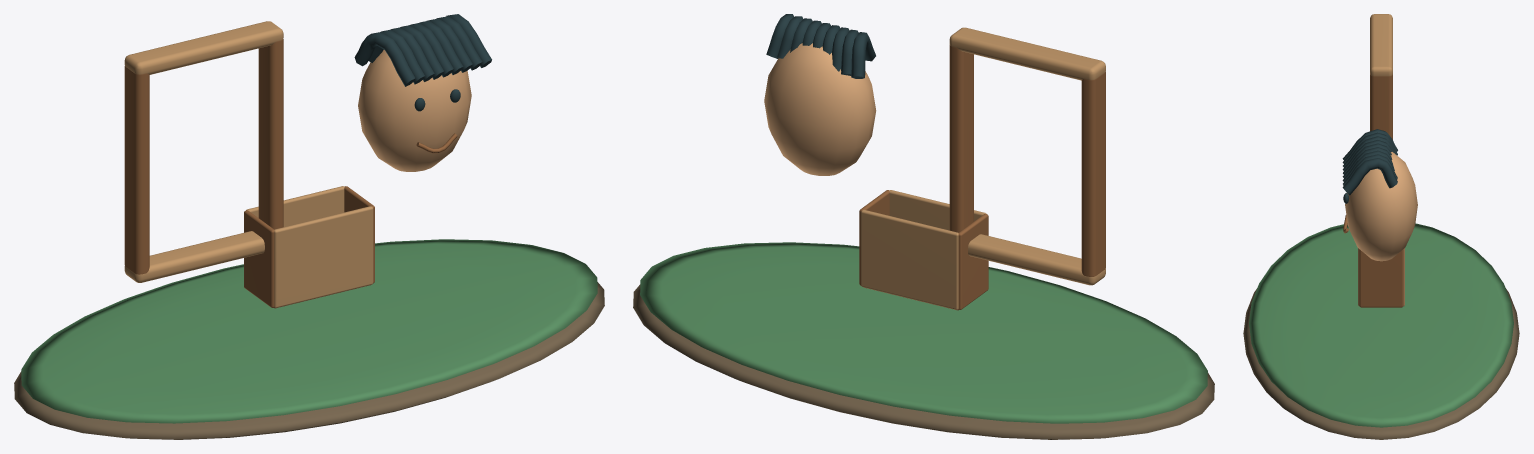
Rendered from complete-second-square-face-aspect.glb.
3 views of the same model, side by side, from view 1: azimuth 30°, elevation 25°; view 2: azimuth 150°, elevation 25°; view 3: azimuth 270°, elevation 25° (orthographic). The views are drawn at different scales.
Visible parts, largest first — view 1: complete-second-square-face-aspect_surface_01, complete-second-square-face-aspect_surface_03, complete-second-square-face-aspect_surface_02, complete-second-square-face-aspect_surface_00, complete-second-square-face-aspect_surface_04, complete-second-square-face-aspect_surface_05; view 2: complete-second-square-face-aspect_surface_01, complete-second-square-face-aspect_surface_03, complete-second-square-face-aspect_surface_02, complete-second-square-face-aspect_surface_04, complete-second-square-face-aspect_surface_00, complete-second-square-face-aspect_surface_05; view 3: complete-second-square-face-aspect_surface_01, complete-second-square-face-aspect_surface_04, complete-second-square-face-aspect_surface_00, complete-second-square-face-aspect_surface_02, complete-second-square-face-aspect_surface_05, complete-second-square-face-aspect_surface_03.
Boxes of the visible parts, x1,y1,x2,y2 form: complete-second-square-face-aspect_surface_01: [21, 239, 597, 423]; complete-second-square-face-aspect_surface_03: [124, 21, 373, 307]; complete-second-square-face-aspect_surface_02: [124, 39, 457, 308]; complete-second-square-face-aspect_surface_00: [14, 282, 604, 439]; complete-second-square-face-aspect_surface_04: [358, 50, 471, 171]; complete-second-square-face-aspect_surface_05: [354, 14, 491, 111]; complete-second-square-face-aspect_surface_01: [640, 242, 1207, 423]; complete-second-square-face-aspect_surface_03: [861, 27, 1105, 309]; complete-second-square-face-aspect_surface_02: [859, 45, 1105, 310]; complete-second-square-face-aspect_surface_04: [764, 43, 876, 175]; complete-second-square-face-aspect_surface_00: [633, 284, 1214, 439]; complete-second-square-face-aspect_surface_05: [766, 14, 875, 78]; complete-second-square-face-aspect_surface_01: [1249, 223, 1513, 427]; complete-second-square-face-aspect_surface_04: [1345, 152, 1417, 261]; complete-second-square-face-aspect_surface_00: [1243, 289, 1519, 439]; complete-second-square-face-aspect_surface_02: [1343, 74, 1403, 307]; complete-second-square-face-aspect_surface_05: [1342, 129, 1397, 203]; complete-second-square-face-aspect_surface_03: [1358, 14, 1404, 306].
Size of the model in its own units: 4.56 by 2.66 by 2.5.
